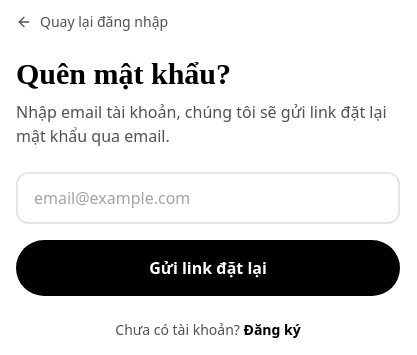
<ForgotPasswordPage /> › submits form and shows success screen on 200
Type "user@test.com" into the field with placeholder "email@example.com".
click(208, 198); type("user@test.com")  # box 16,172 -> 400,224
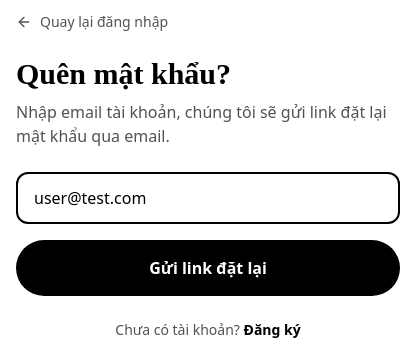
Click the button "Gửi link đặt lại".
click(208, 268)  # box 16,240 -> 400,296
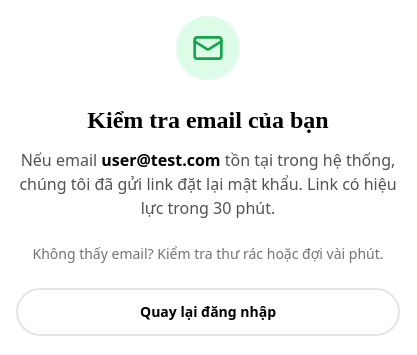
Expected: the heading "Kiểm tra email của bạn" is shown, 87,107 -> 329,133
Expected: the text "user@test.com" is shown, 101,149 -> 220,171
